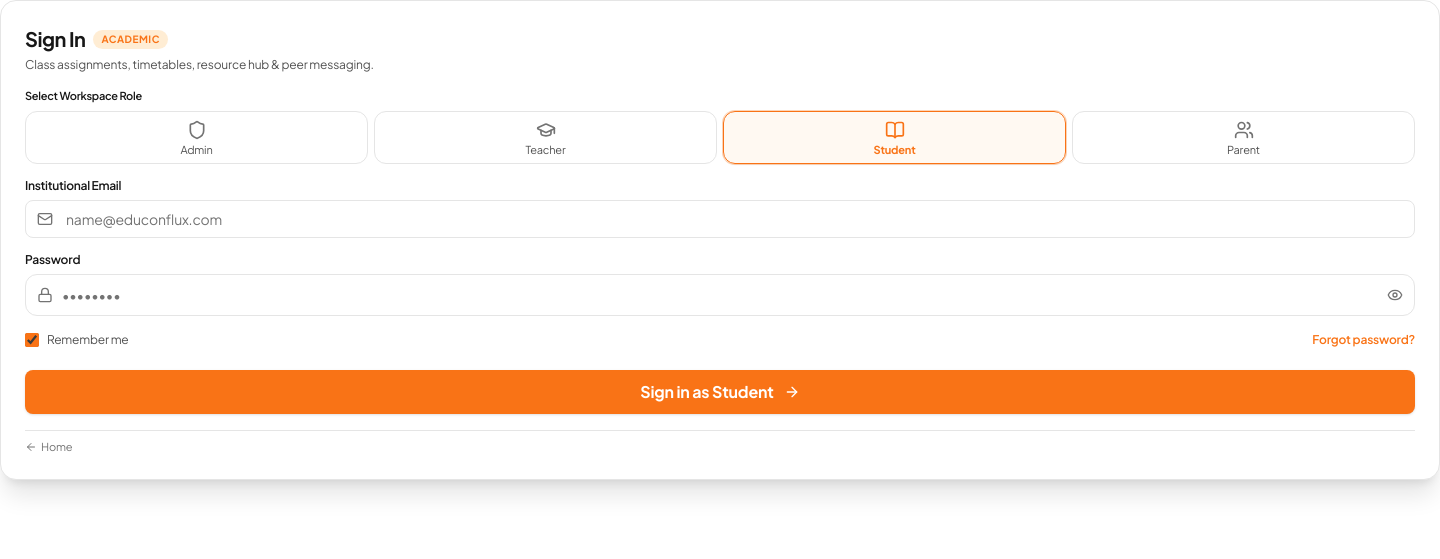
Test case: LoginForm Component › displays validation errors when submitting with empty credentials
Click the button "Sign in as Student" at (720, 392), box [25,370,1415,414]
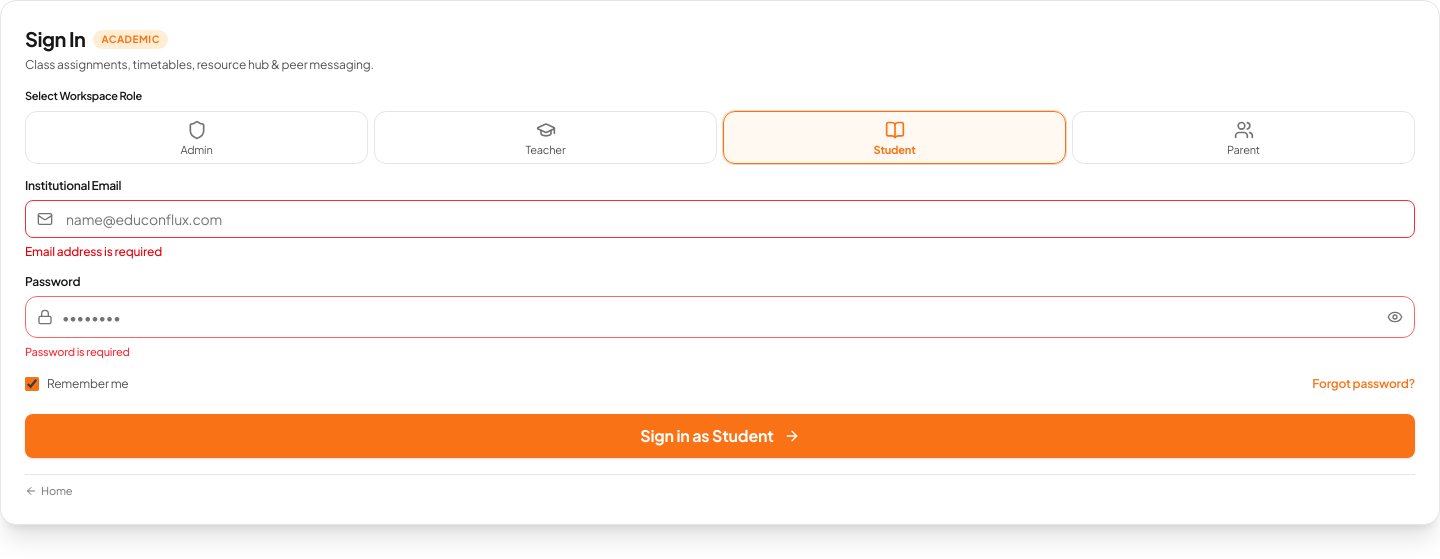
Expected: the text "Email address is required" is shown, [25,244,162,258]
Expected: the text "Password is required" is shown, [25,344,130,358]
